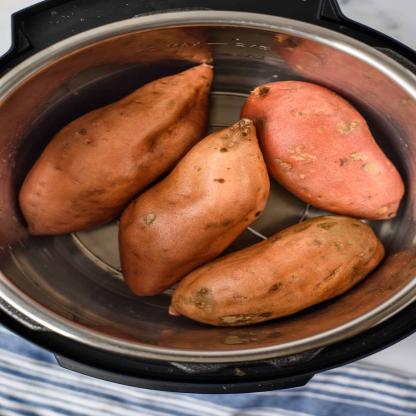---: (14, 56, 223, 239), (116, 116, 266, 298), (160, 211, 388, 330), (244, 79, 414, 226)
